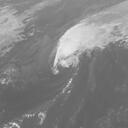cyclone: (50, 37, 79, 75)
